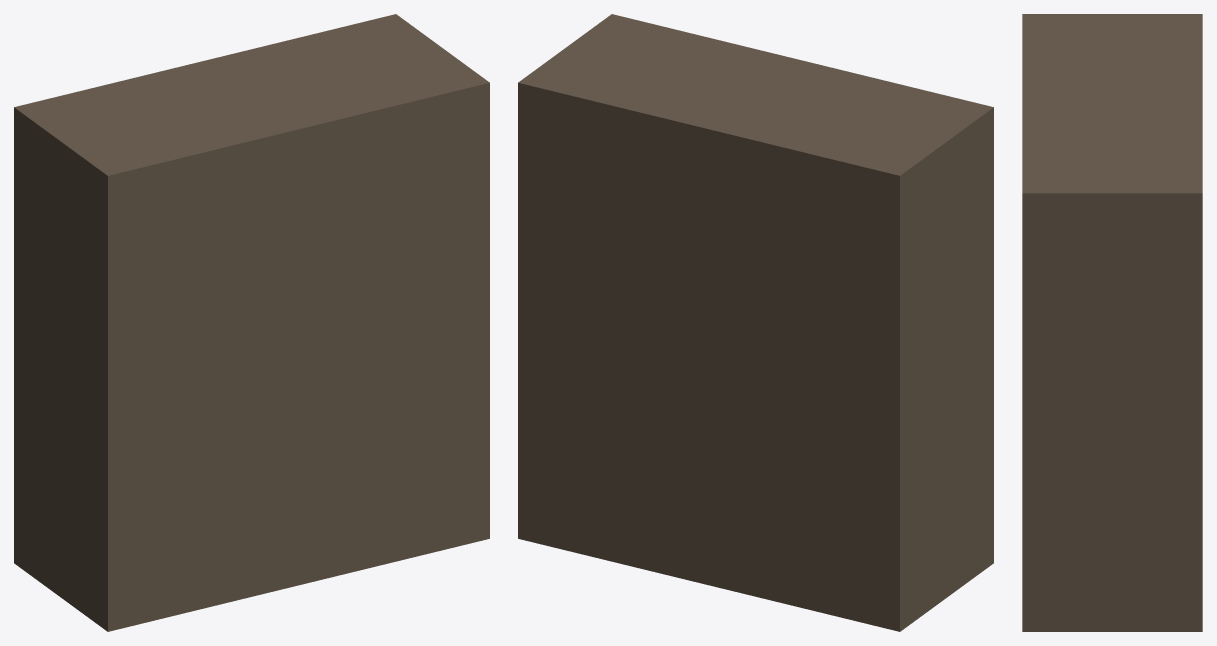
Rendered from nature_dead_c_lod2.glb.
3 views of the same model, side by side, from view 1: azimuth 30°, elevation 25°; view 2: azimuth 150°, elevation 25°; view 3: azimuth 270°, elevation 25° (orthographic). The views are drawn at different scales.
Parts seen in each view (by area): view 1: nature_dead_c_lod2; view 2: nature_dead_c_lod2; view 3: nature_dead_c_lod2.
Boxes of the visible parts, box(x1,y1,x2,y2) form: nature_dead_c_lod2: box(14, 14, 489, 631); nature_dead_c_lod2: box(518, 14, 993, 631); nature_dead_c_lod2: box(1022, 14, 1202, 631).
Size of the model in its own units: 2.42 by 2.76 by 1.03.
